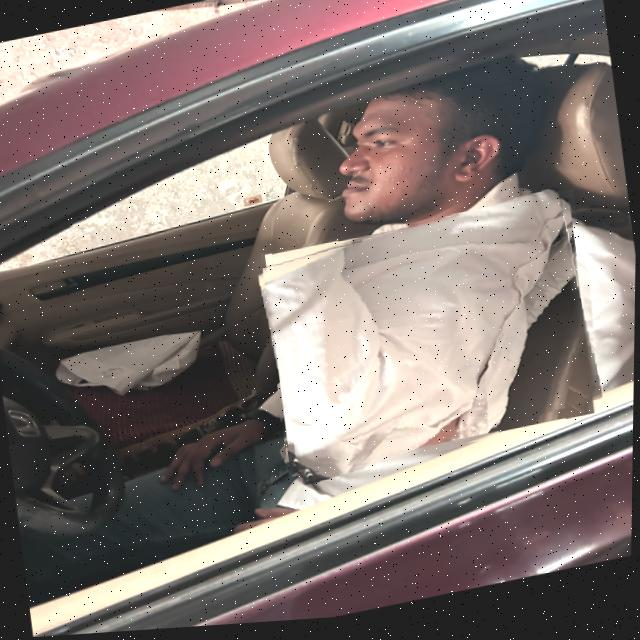no-seatbelt: (258, 195, 605, 488)
